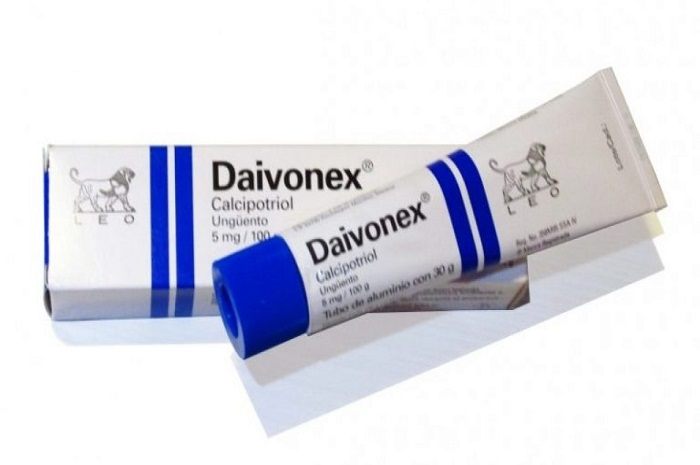Medicine: (215, 69, 668, 368), (32, 134, 535, 313)
